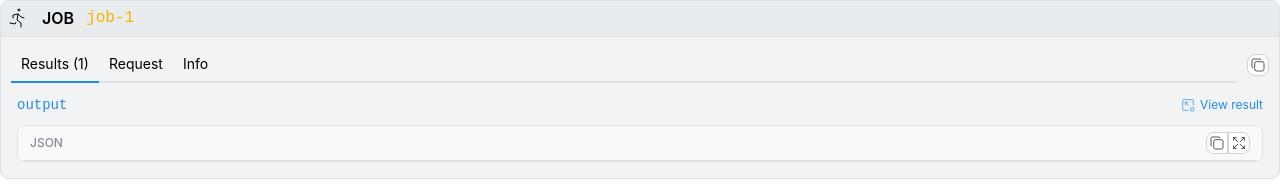
it: job detail tabs › explains when a stored request is unavailable
What coordinates should you click on to do the following:
click the tab "Request"
I would click on:
 (136, 65)
Its box is [99,47,173,83].
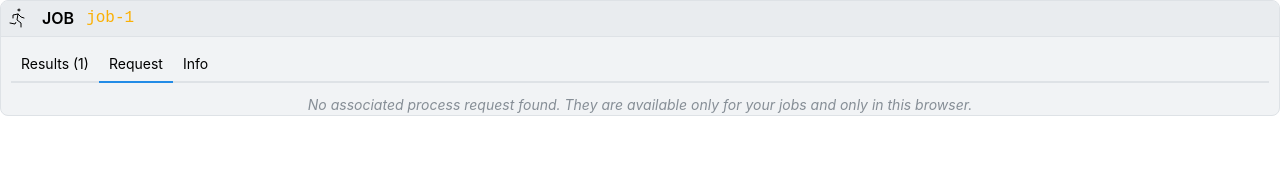
Expected: the text "No associated process request found" is shown, [308,96,972,113]
